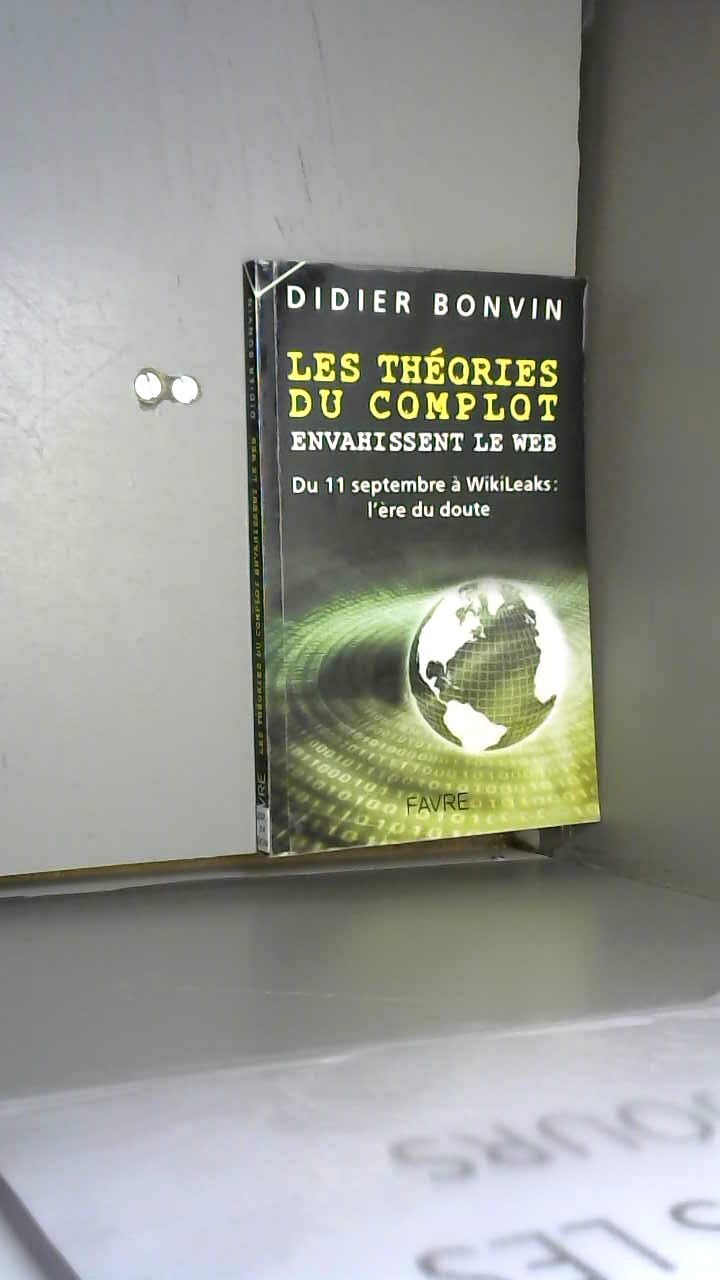book: (220, 230, 720, 893)
